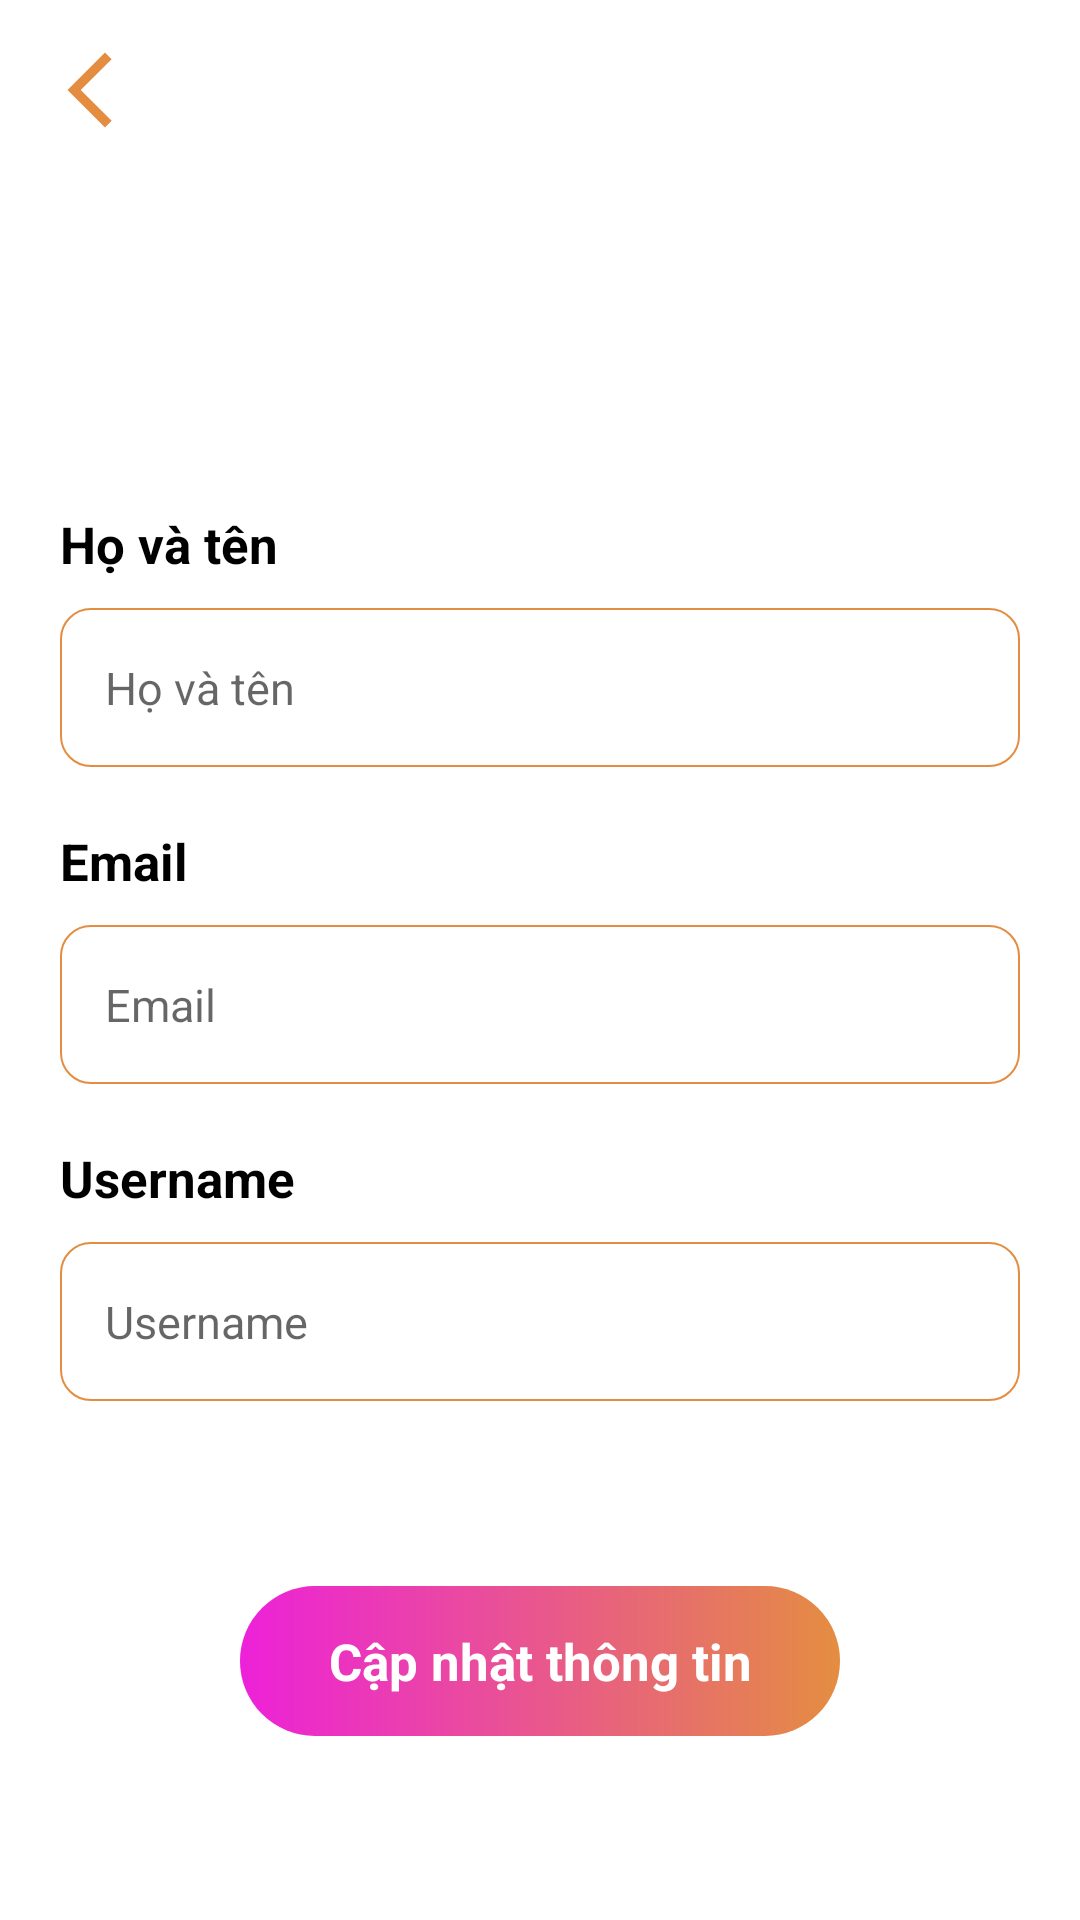

Icon click points for this 1080px×1920px phone screenshot, format (x=x, y=y):
back: (x=90, y=90)
